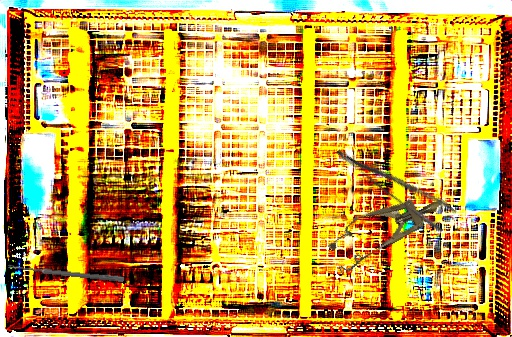Dressing Forceps: (334, 131, 458, 235)
Speculum: (322, 180, 452, 277)
Surgical Spoon: (8, 263, 124, 283)
